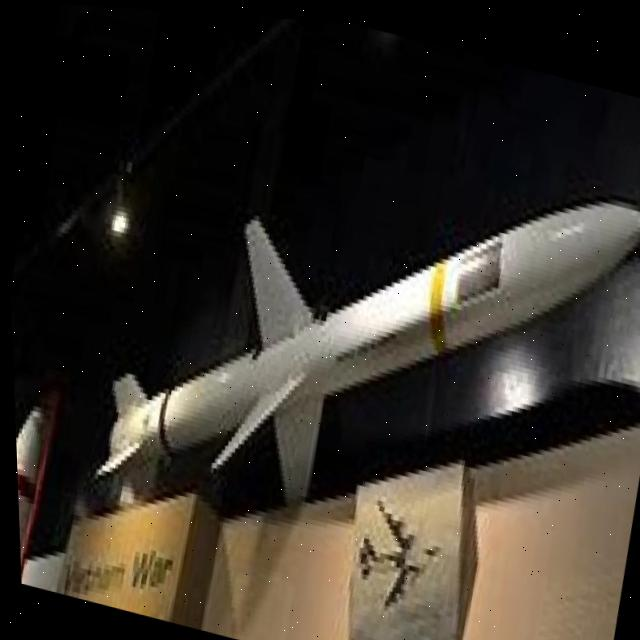missile: (72, 72, 640, 611)
